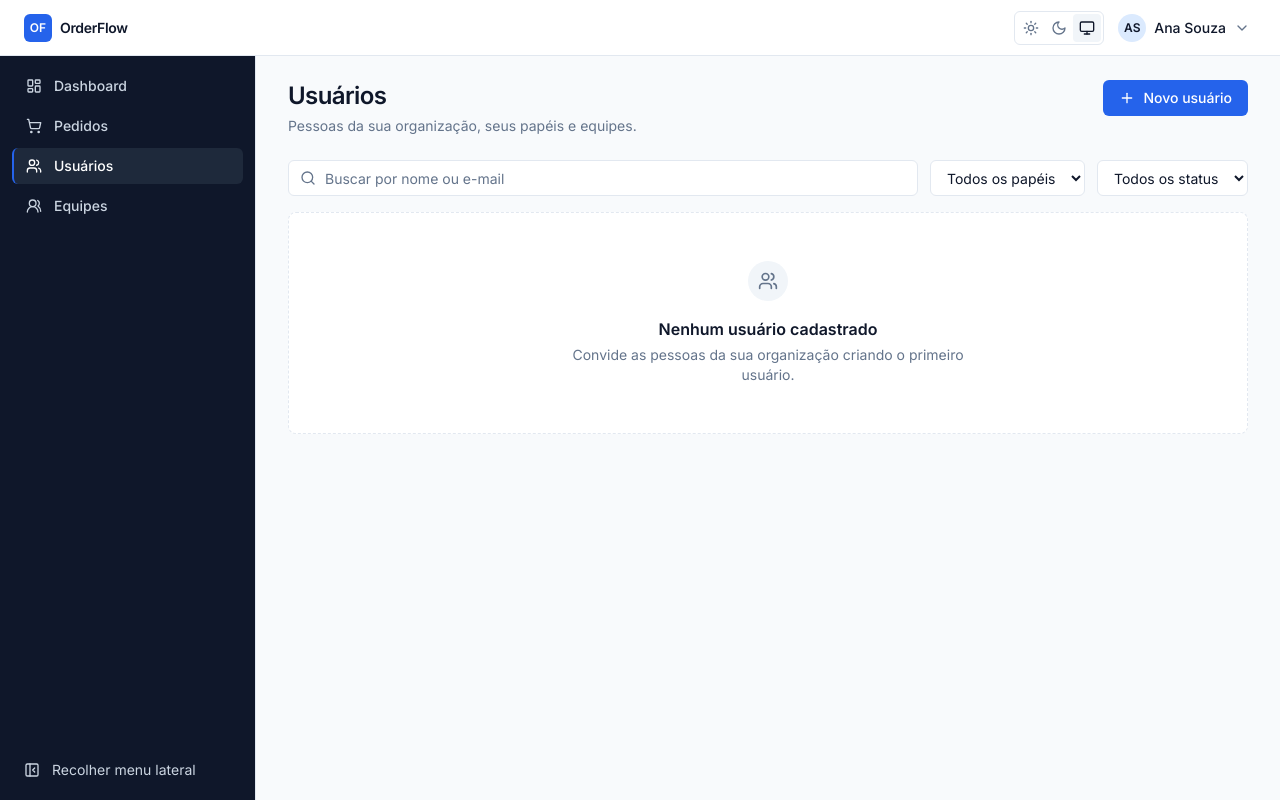
Test: UsersPage › invites by email by default, without asking for a password
Click the button "Novo usuário" at (1176, 98), box x1=1103 y1=80 x2=1248 y2=116
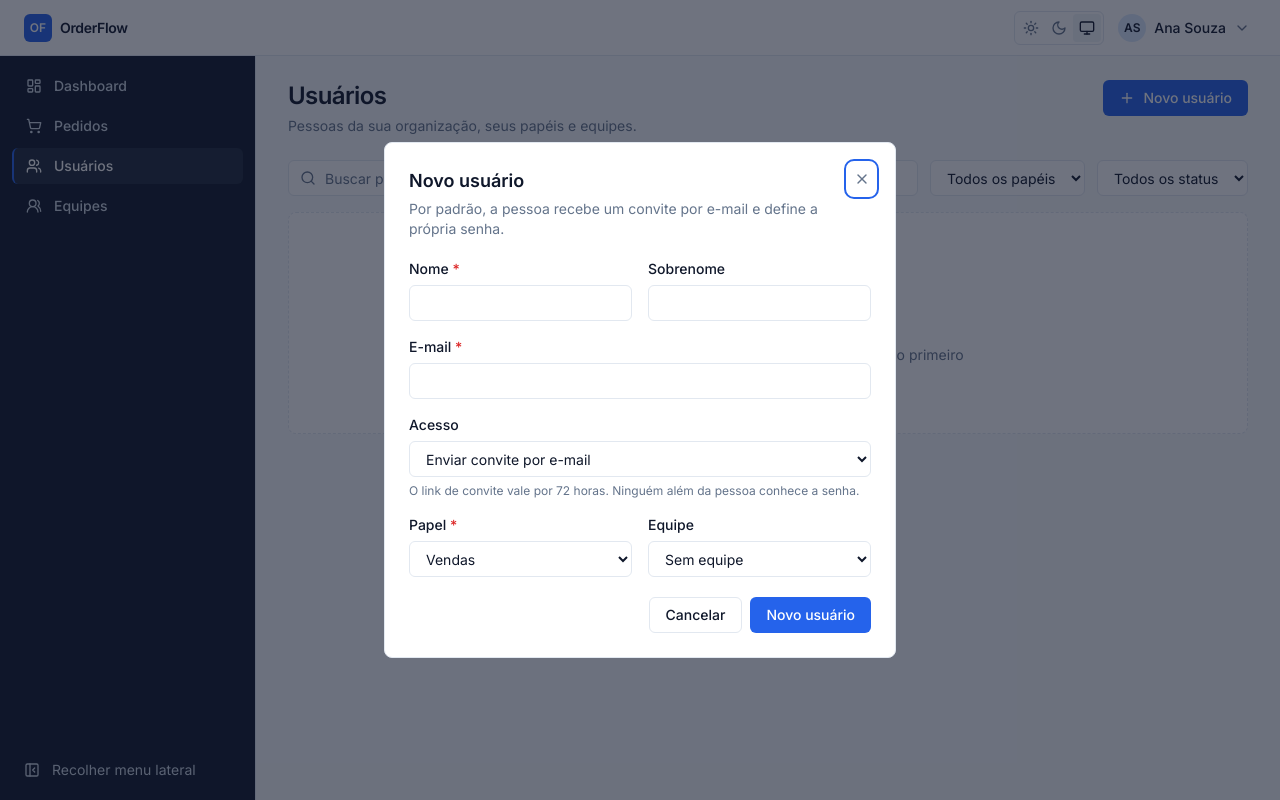
Type "Carla" into the field labelled "Nome *" at (520, 303), box x1=409 y1=285 x2=632 y2=321
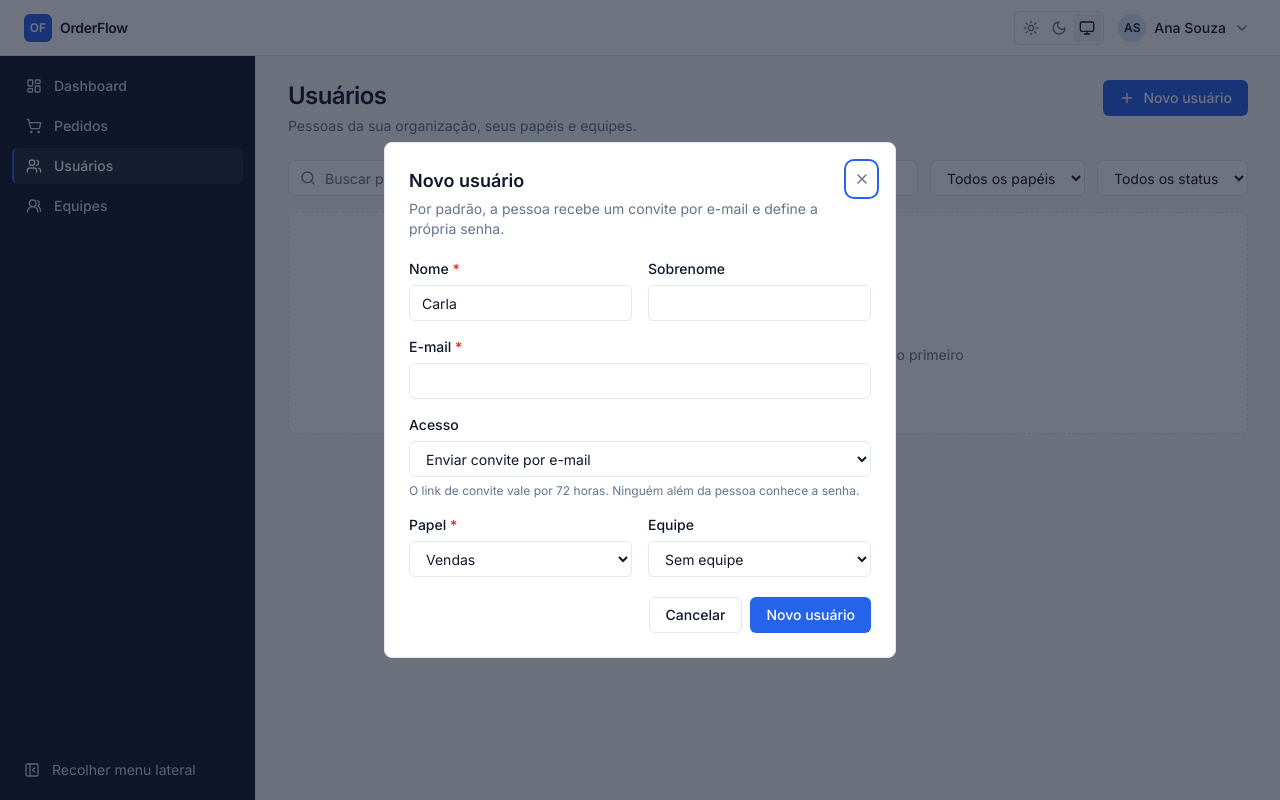
Type "carla@acme.com" into the field labelled "E-mail *" at (640, 381), box x1=409 y1=363 x2=871 y2=399
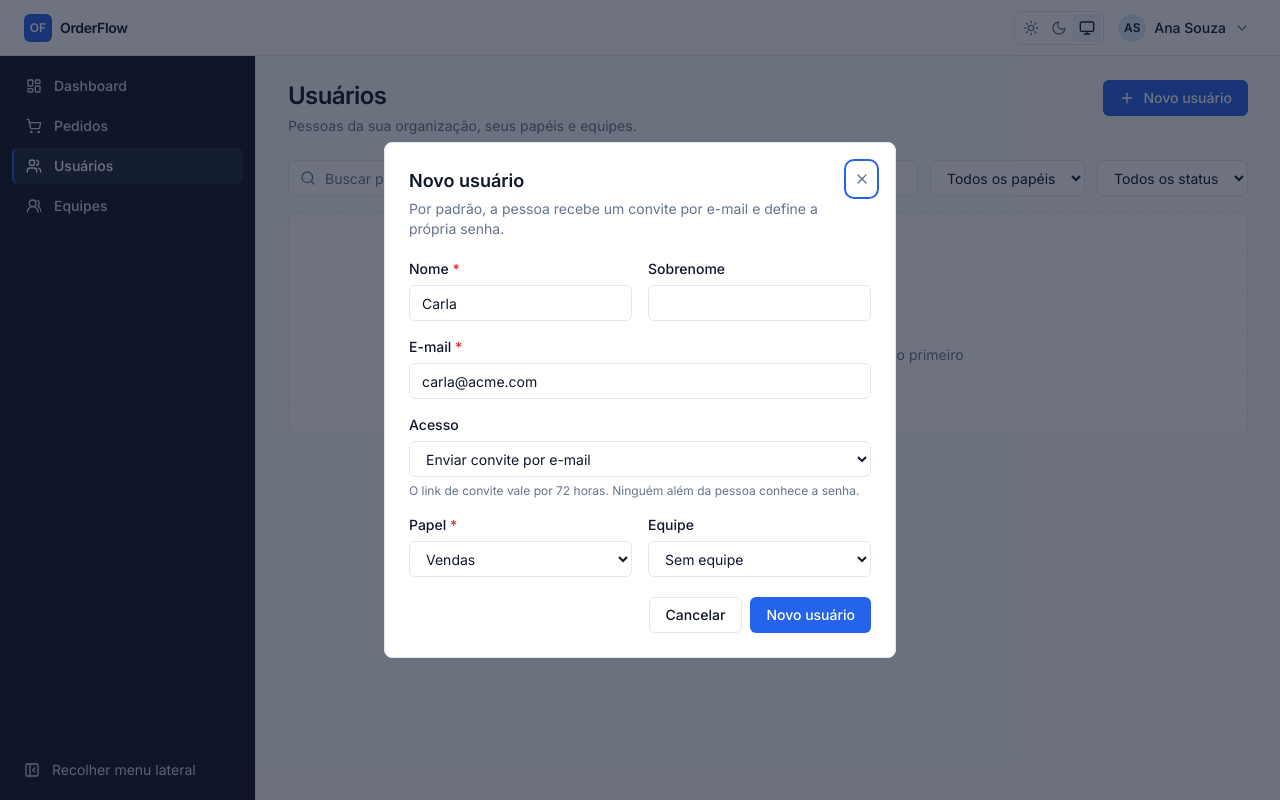
Submit the form with id "user-form", box x1=409 y1=259 x2=871 y2=577
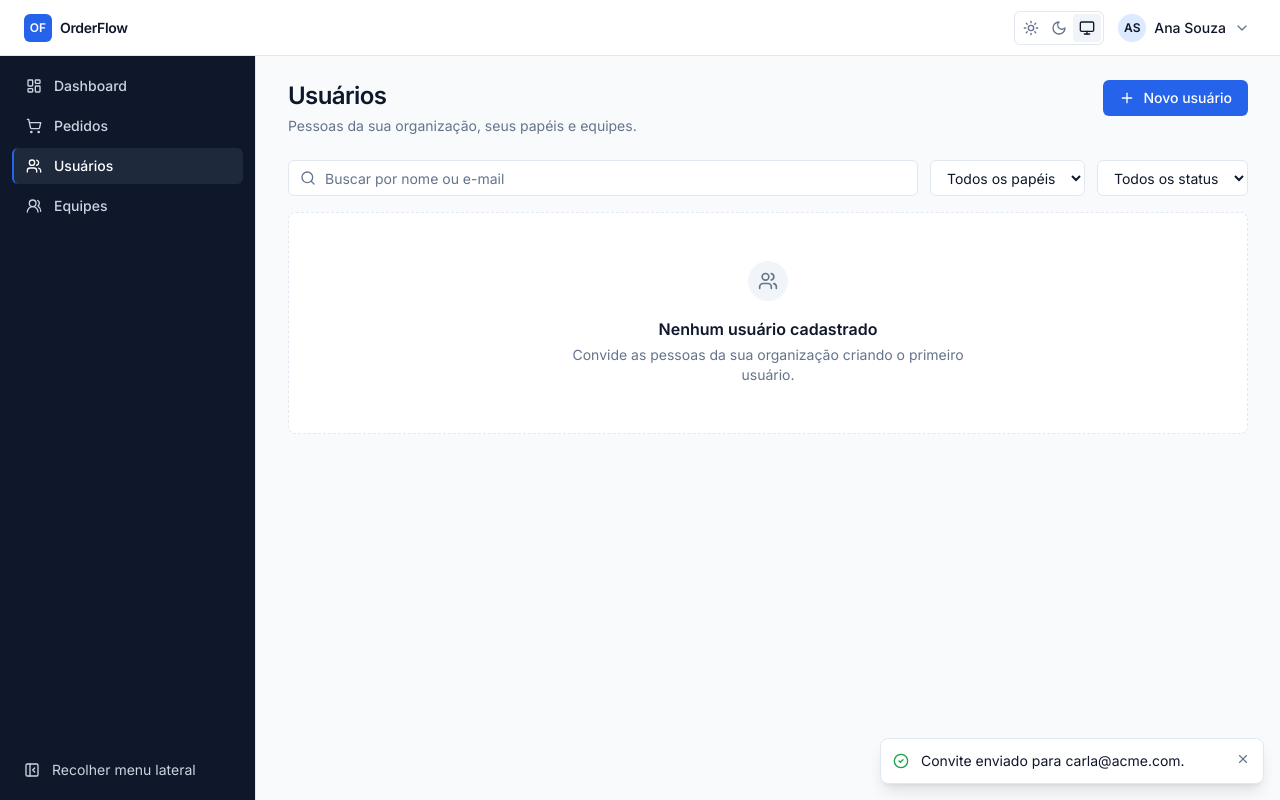
Check: the text "Convite enviado para carla@acme.com." is shown, box x1=921 y1=751 x2=1223 y2=771
